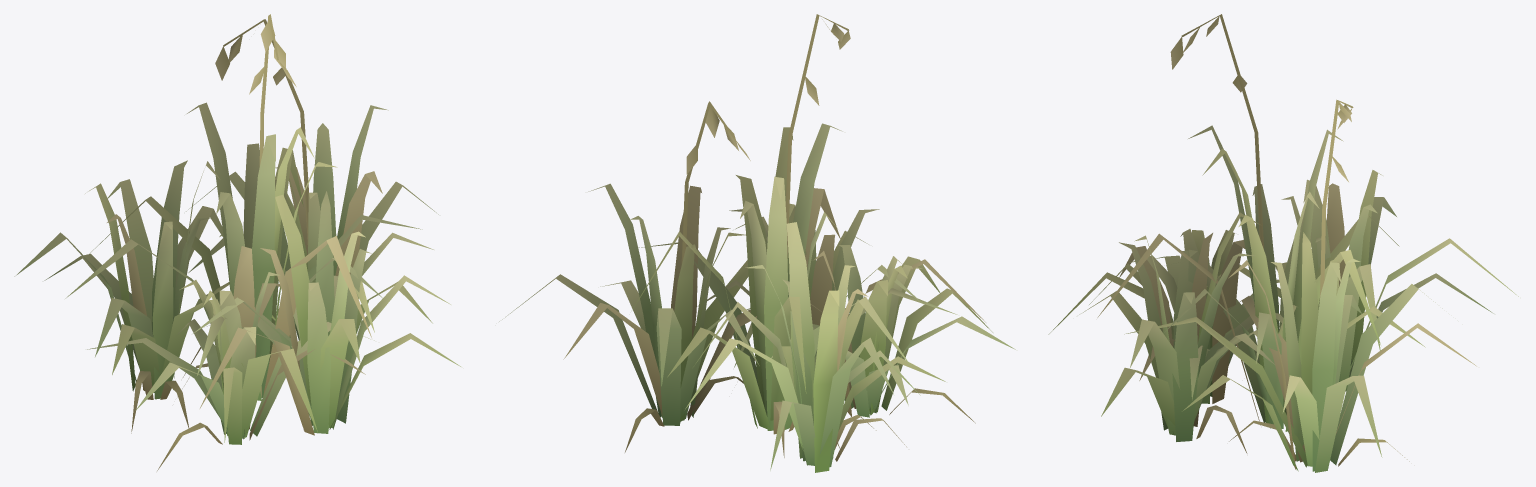
Rendered from deco-beachgrass-v1.glb.
3 renders of one model, left to right at view 1: azimuth 30°, elevation 25°; view 2: azimuth 150°, elevation 25°; view 3: azimuth 270°, elevation 25°, orthographic. The views are drawn at different scales.
Parts seen in each view (by area): view 1: 0_beachgrass; view 2: 0_beachgrass; view 3: 0_beachgrass.
Boxes of the visible parts, <box> form: 0_beachgrass: <box>14,14,460,470</box>; 0_beachgrass: <box>499,14,1015,472</box>; 0_beachgrass: <box>1048,14,1518,472</box>.
Bounding box in the file's own units: 1.29 × 1.19 × 1.27.
